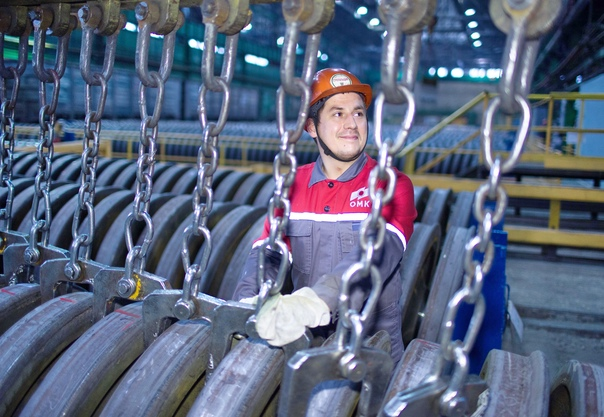person: (239, 66, 416, 373)
